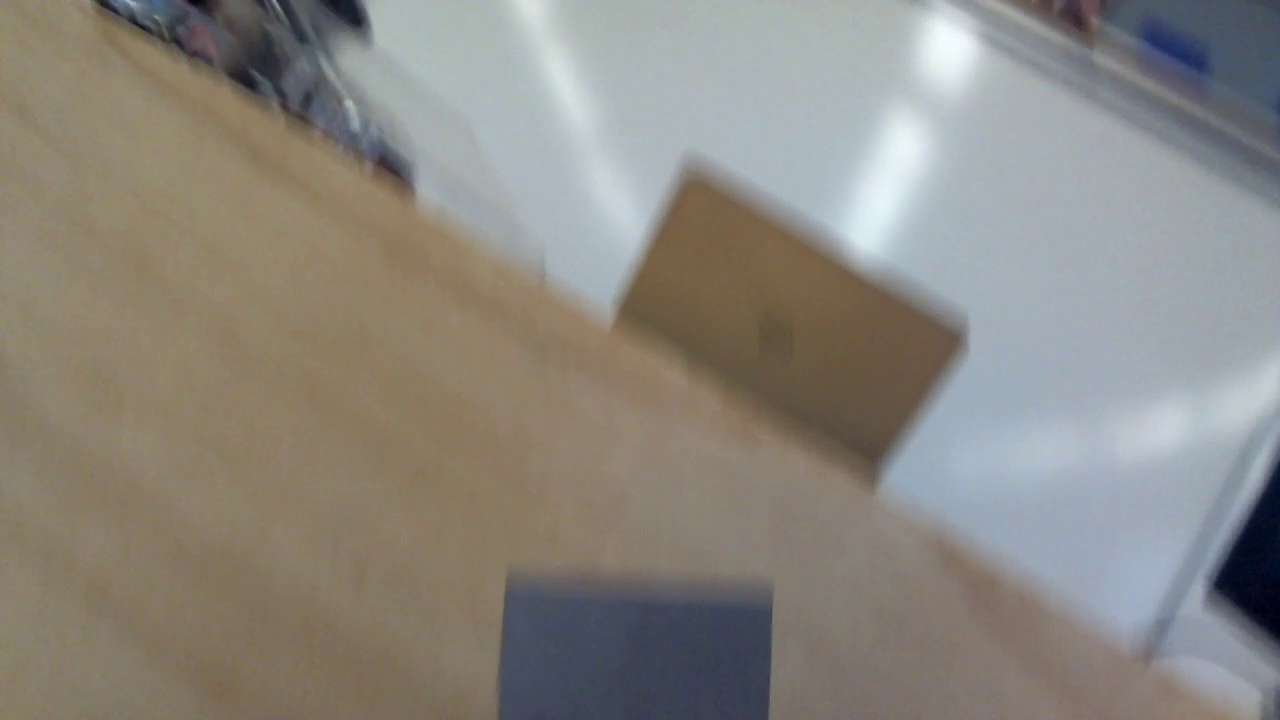Tape: (496, 572, 775, 720)
